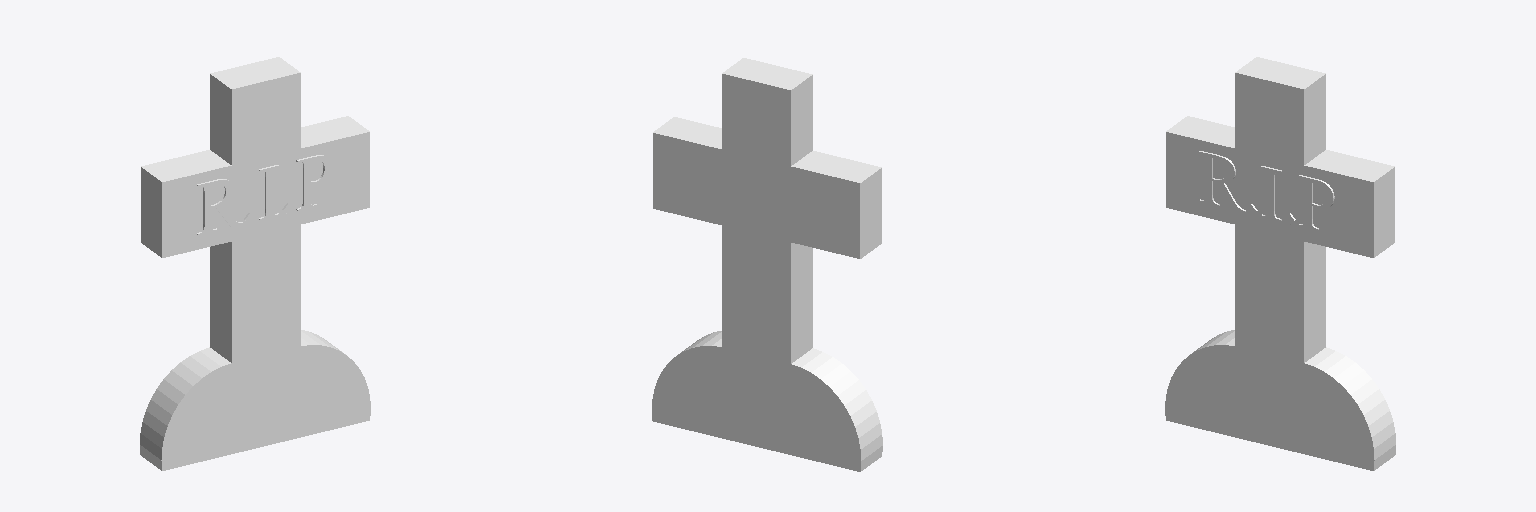
The model's file is Tombstone.obj.
3 renders of one model, left to right at view 1: azimuth 30°, elevation 25°; view 2: azimuth 150°, elevation 25°; view 3: azimuth 330°, elevation 25°, orthographic.
Parts seen in each view (by area): view 1: group6 group3 group2 group1 instance_0 SketchUp ID56, group6 group3 group2 group1 instance_0 SketchUp RFBXASC046IFBXAS, group6 group3 group2 group1 instance_0 SketchUp ID32; view 2: group6 group3 group2 group1 instance_0 SketchUp ID56; view 3: group6 group3 group2 group1 instance_0 SketchUp ID56, group6 group3 group2 group1 instance_0 SketchUp RFBXASC046IFBXAS, group6 group3 group2 group1 instance_0 SketchUp ID32.
Boxes of the visible parts, x1,y1,x2,y2 form: group6 group3 group2 group1 instance_0 SketchUp ID56: [140, 57, 370, 470]; group6 group3 group2 group1 instance_0 SketchUp RFBXASC046IFBXAS: [197, 179, 243, 234]; group6 group3 group2 group1 instance_0 SketchUp ID32: [296, 155, 331, 210]; group6 group3 group2 group1 instance_0 SketchUp ID56: [652, 58, 882, 471]; group6 group3 group2 group1 instance_0 SketchUp ID56: [1165, 57, 1395, 470]; group6 group3 group2 group1 instance_0 SketchUp RFBXASC046IFBXAS: [1199, 151, 1245, 212]; group6 group3 group2 group1 instance_0 SketchUp ID32: [1299, 175, 1334, 229].
Bounding box in the file's own units: 0.6524 × 1.09 × 0.1239.